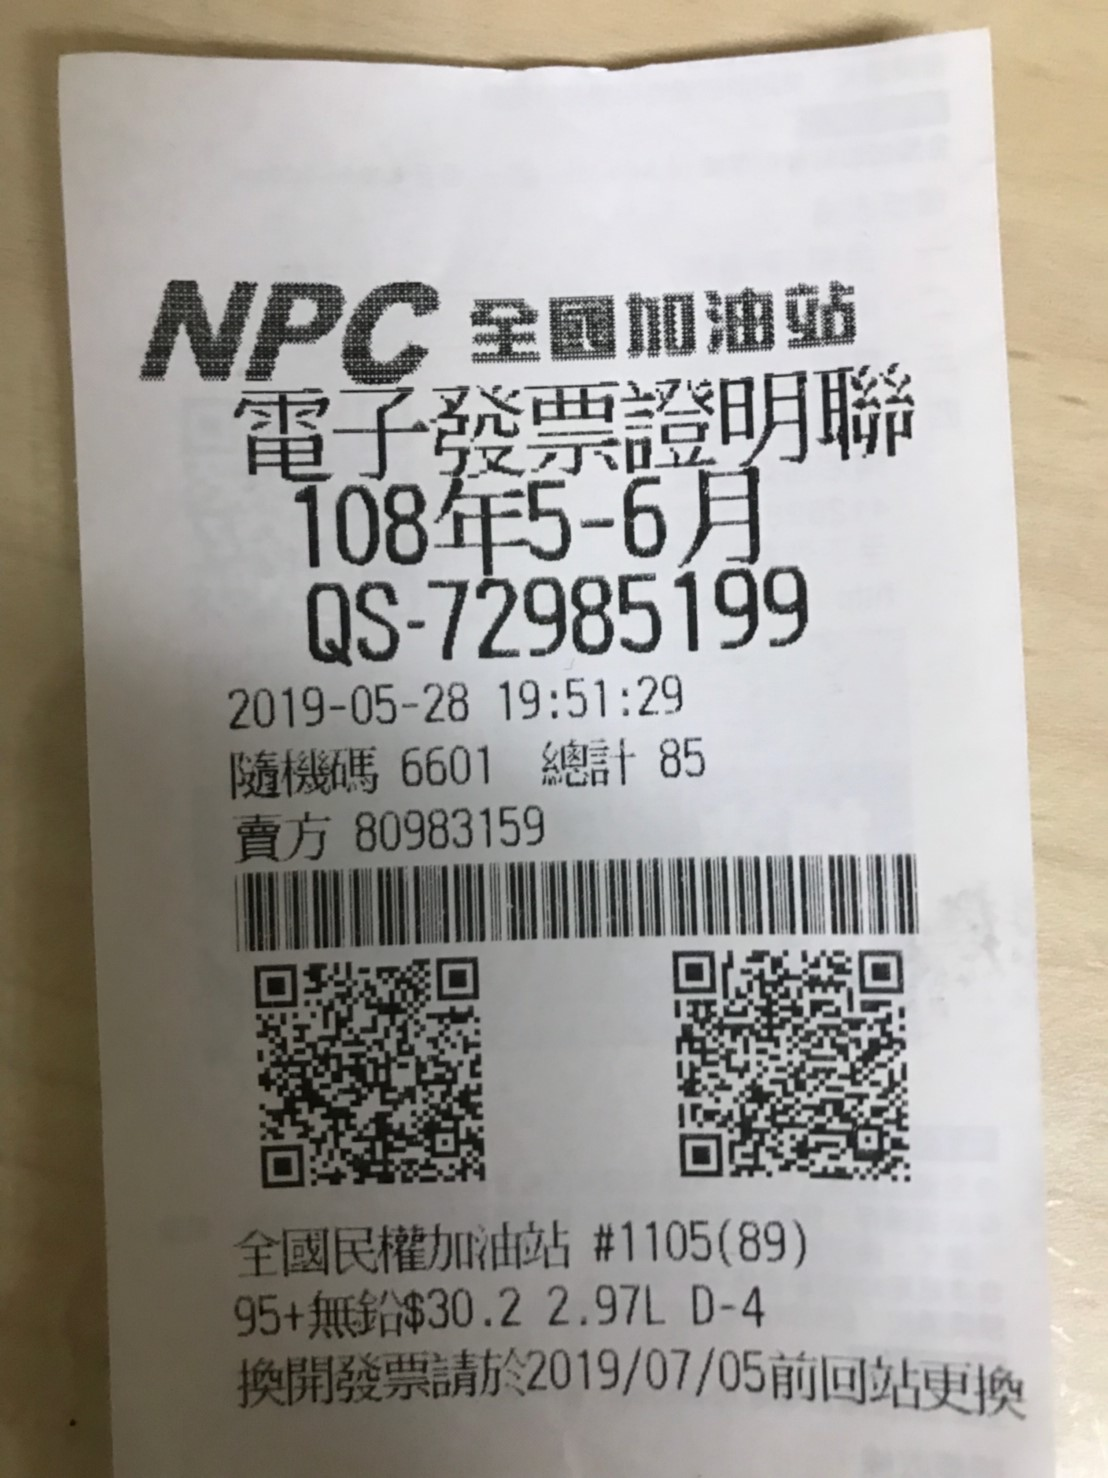Date_New: (289, 469, 766, 568)
Number_New: (428, 562, 811, 660)
